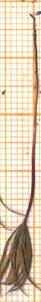flower: (0, 220, 41, 302)
stem: (21, 13, 41, 220)
